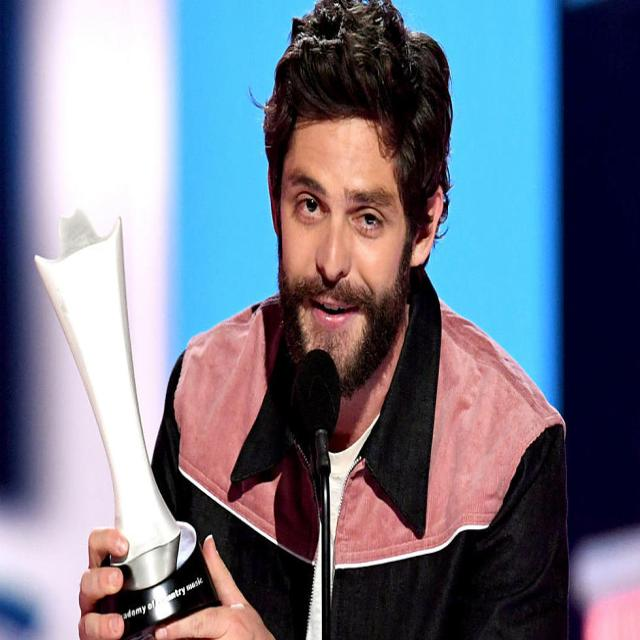human: (78, 2, 573, 640)
